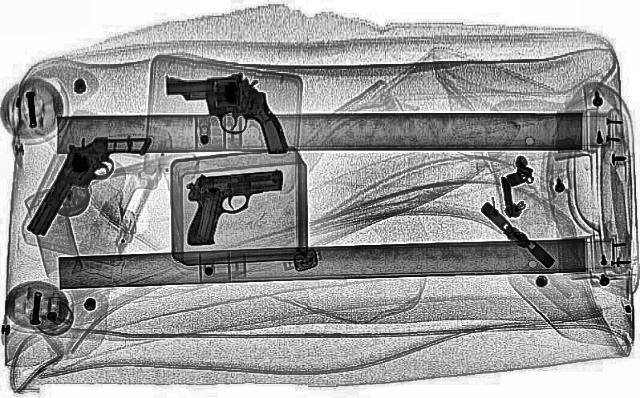Gun: (13, 122, 151, 244), (158, 72, 292, 154), (173, 166, 285, 246)
